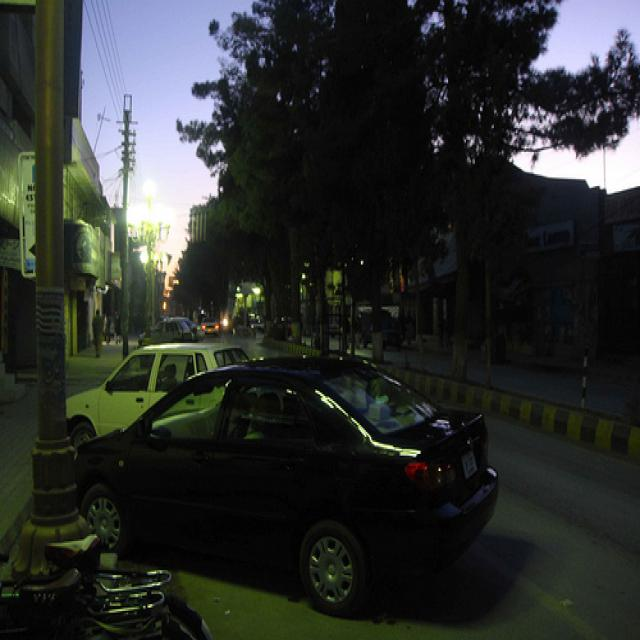Car: (88, 343, 466, 599)
